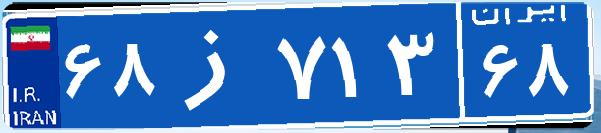1: (330, 28, 385, 110)
3: (385, 28, 445, 110)
6: (57, 26, 110, 107), (475, 38, 525, 113)
7: (273, 28, 330, 110)
8: (110, 28, 158, 105), (525, 38, 570, 115)
ز: (158, 15, 273, 115)
